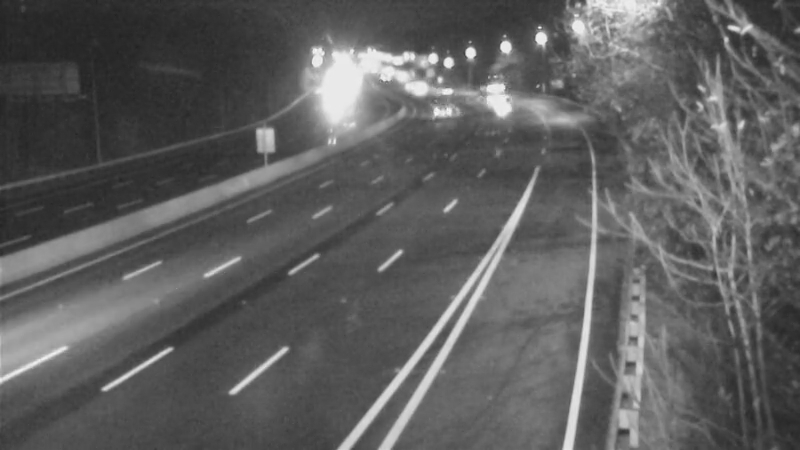vehicle: (424, 61, 474, 111), (474, 63, 524, 113), (478, 81, 528, 131), (411, 87, 461, 137)
